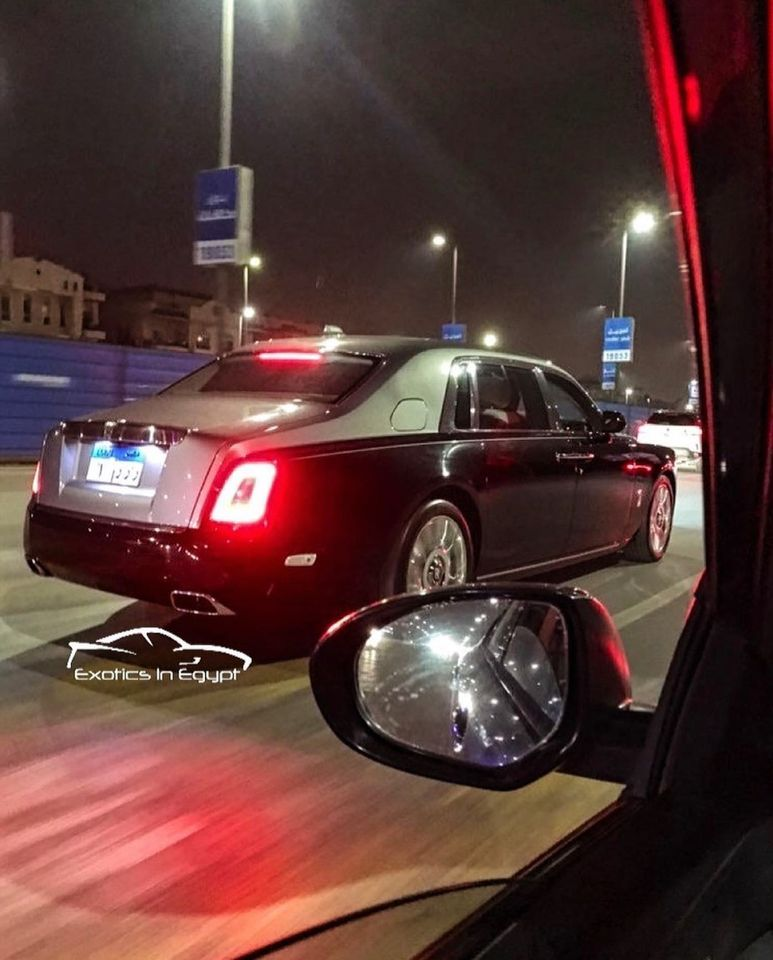carpl: (82, 447, 150, 487)
